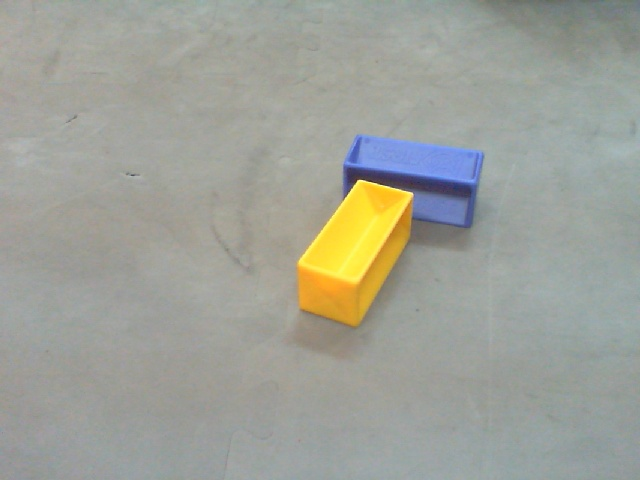BlueSample: (339, 127, 486, 225)
YellowSample: (272, 178, 416, 330)
